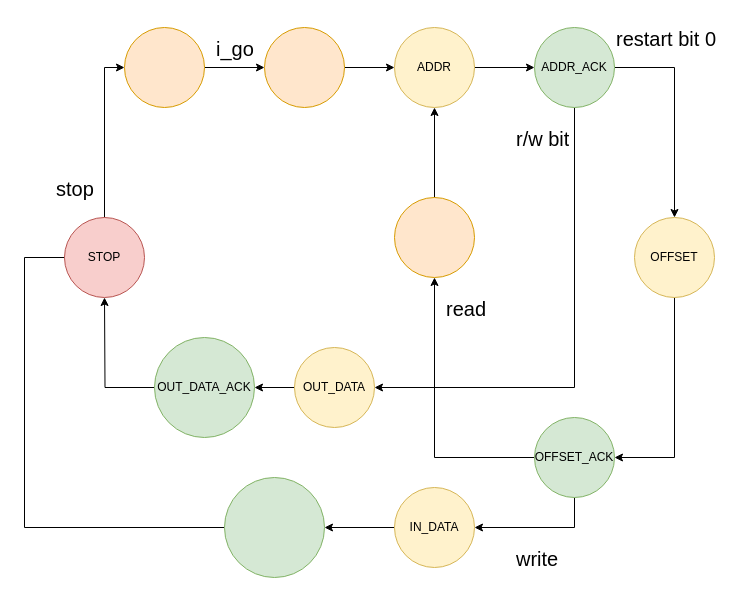
The diagram is 752 pixels wide and 597 high, and some of its shapes have lost their labels. The shapes that lost their labels are listed below. From the top down, each one's centre as x and y in pixels, then its label:
At point 164,67: "IDLE".
At point 304,67: "start".
At point 434,237: "REstart".
At point 274,527: "IN_DATA_ACK".
